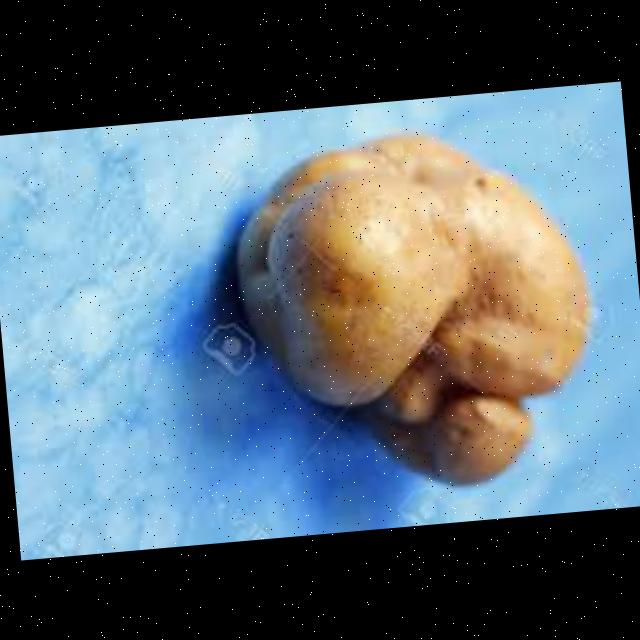Damaged potato: (253, 118, 606, 428)
